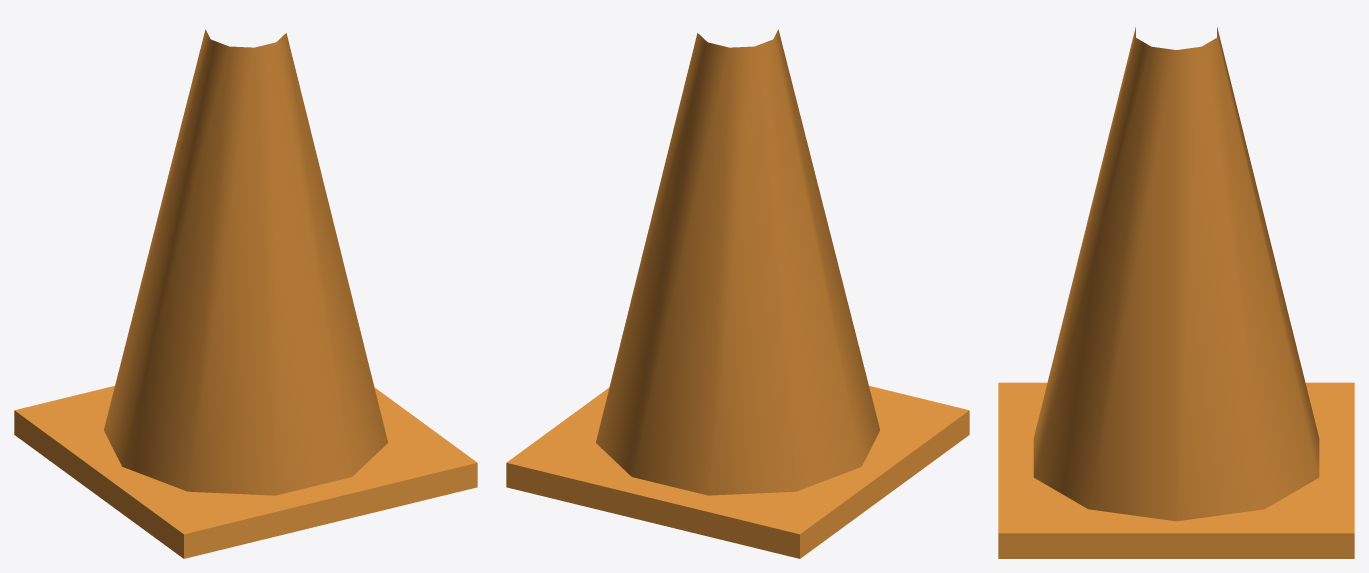
The picture shows the model from 3 angles, left to right: view 1: azimuth 30°, elevation 25°; view 2: azimuth 150°, elevation 25°; view 3: azimuth 270°, elevation 25°; orthographic projection. The views are drawn at different scales.
Visible parts, largest first — view 1: cone; view 2: cone; view 3: cone.
Part boxes in pixels (x1,y1,x2,y2): cone: [14, 29, 477, 558]; cone: [506, 29, 969, 558]; cone: [998, 27, 1354, 558].
Bounding box in the file's own units: 0.5 × 0.7 × 0.5.
